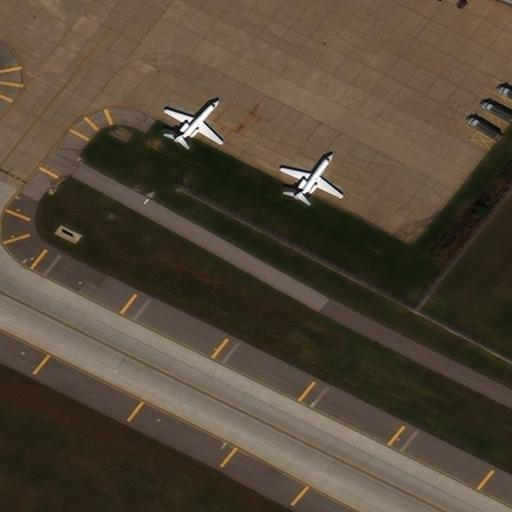Medium Civil Transport: (282, 154, 342, 198), (165, 100, 222, 143)
